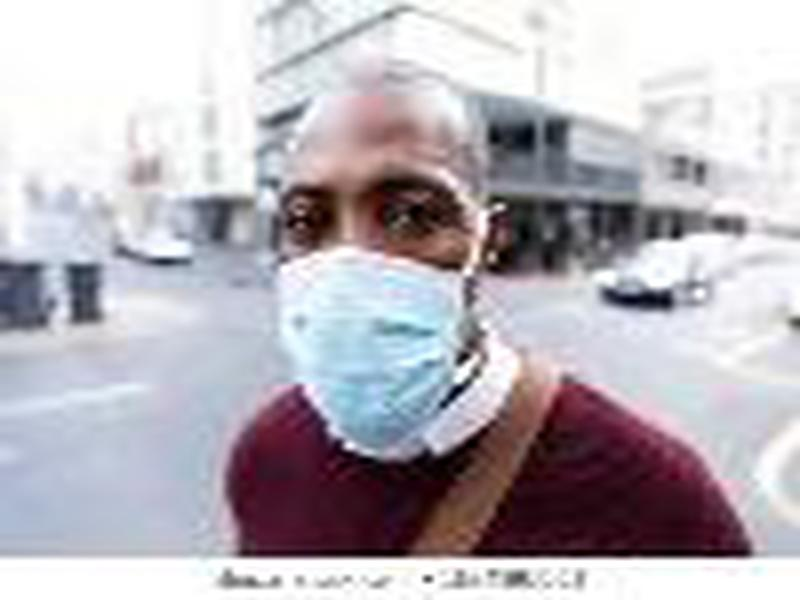with_mask: (273, 58, 507, 451)
